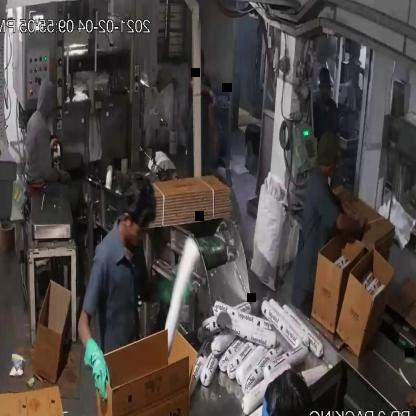glove: (80, 339, 119, 408)
no_glove: (324, 194, 380, 242), (204, 94, 223, 159)
